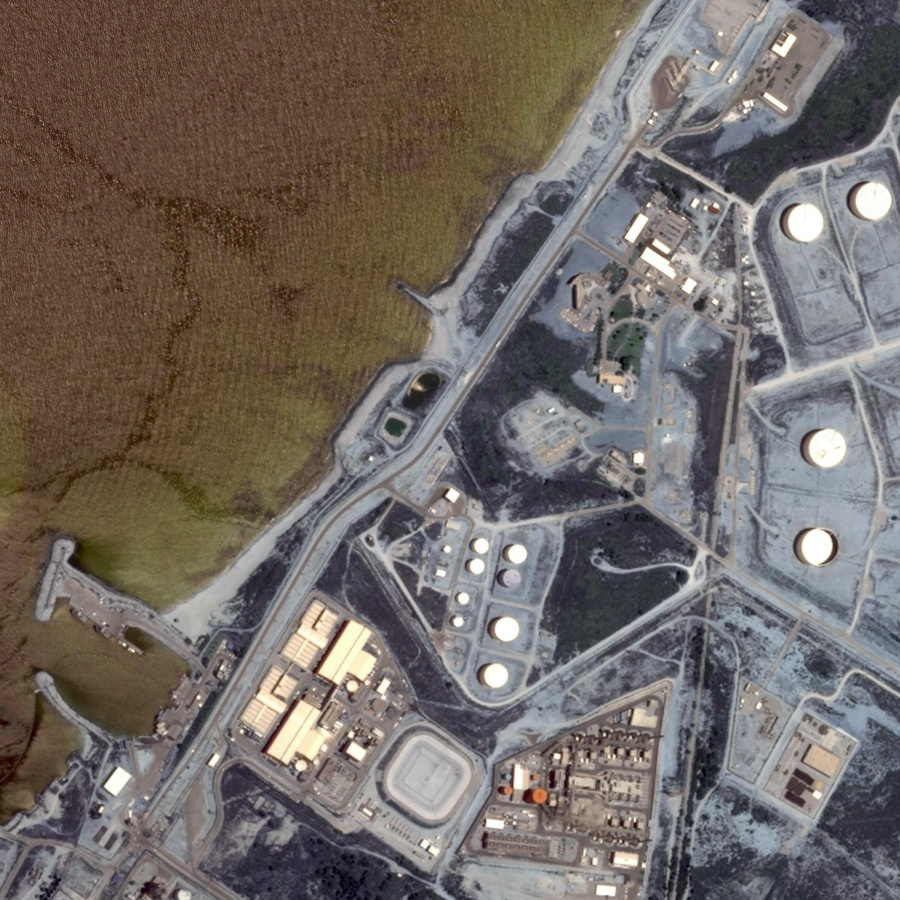PowerPlant: (368, 487, 600, 700)
